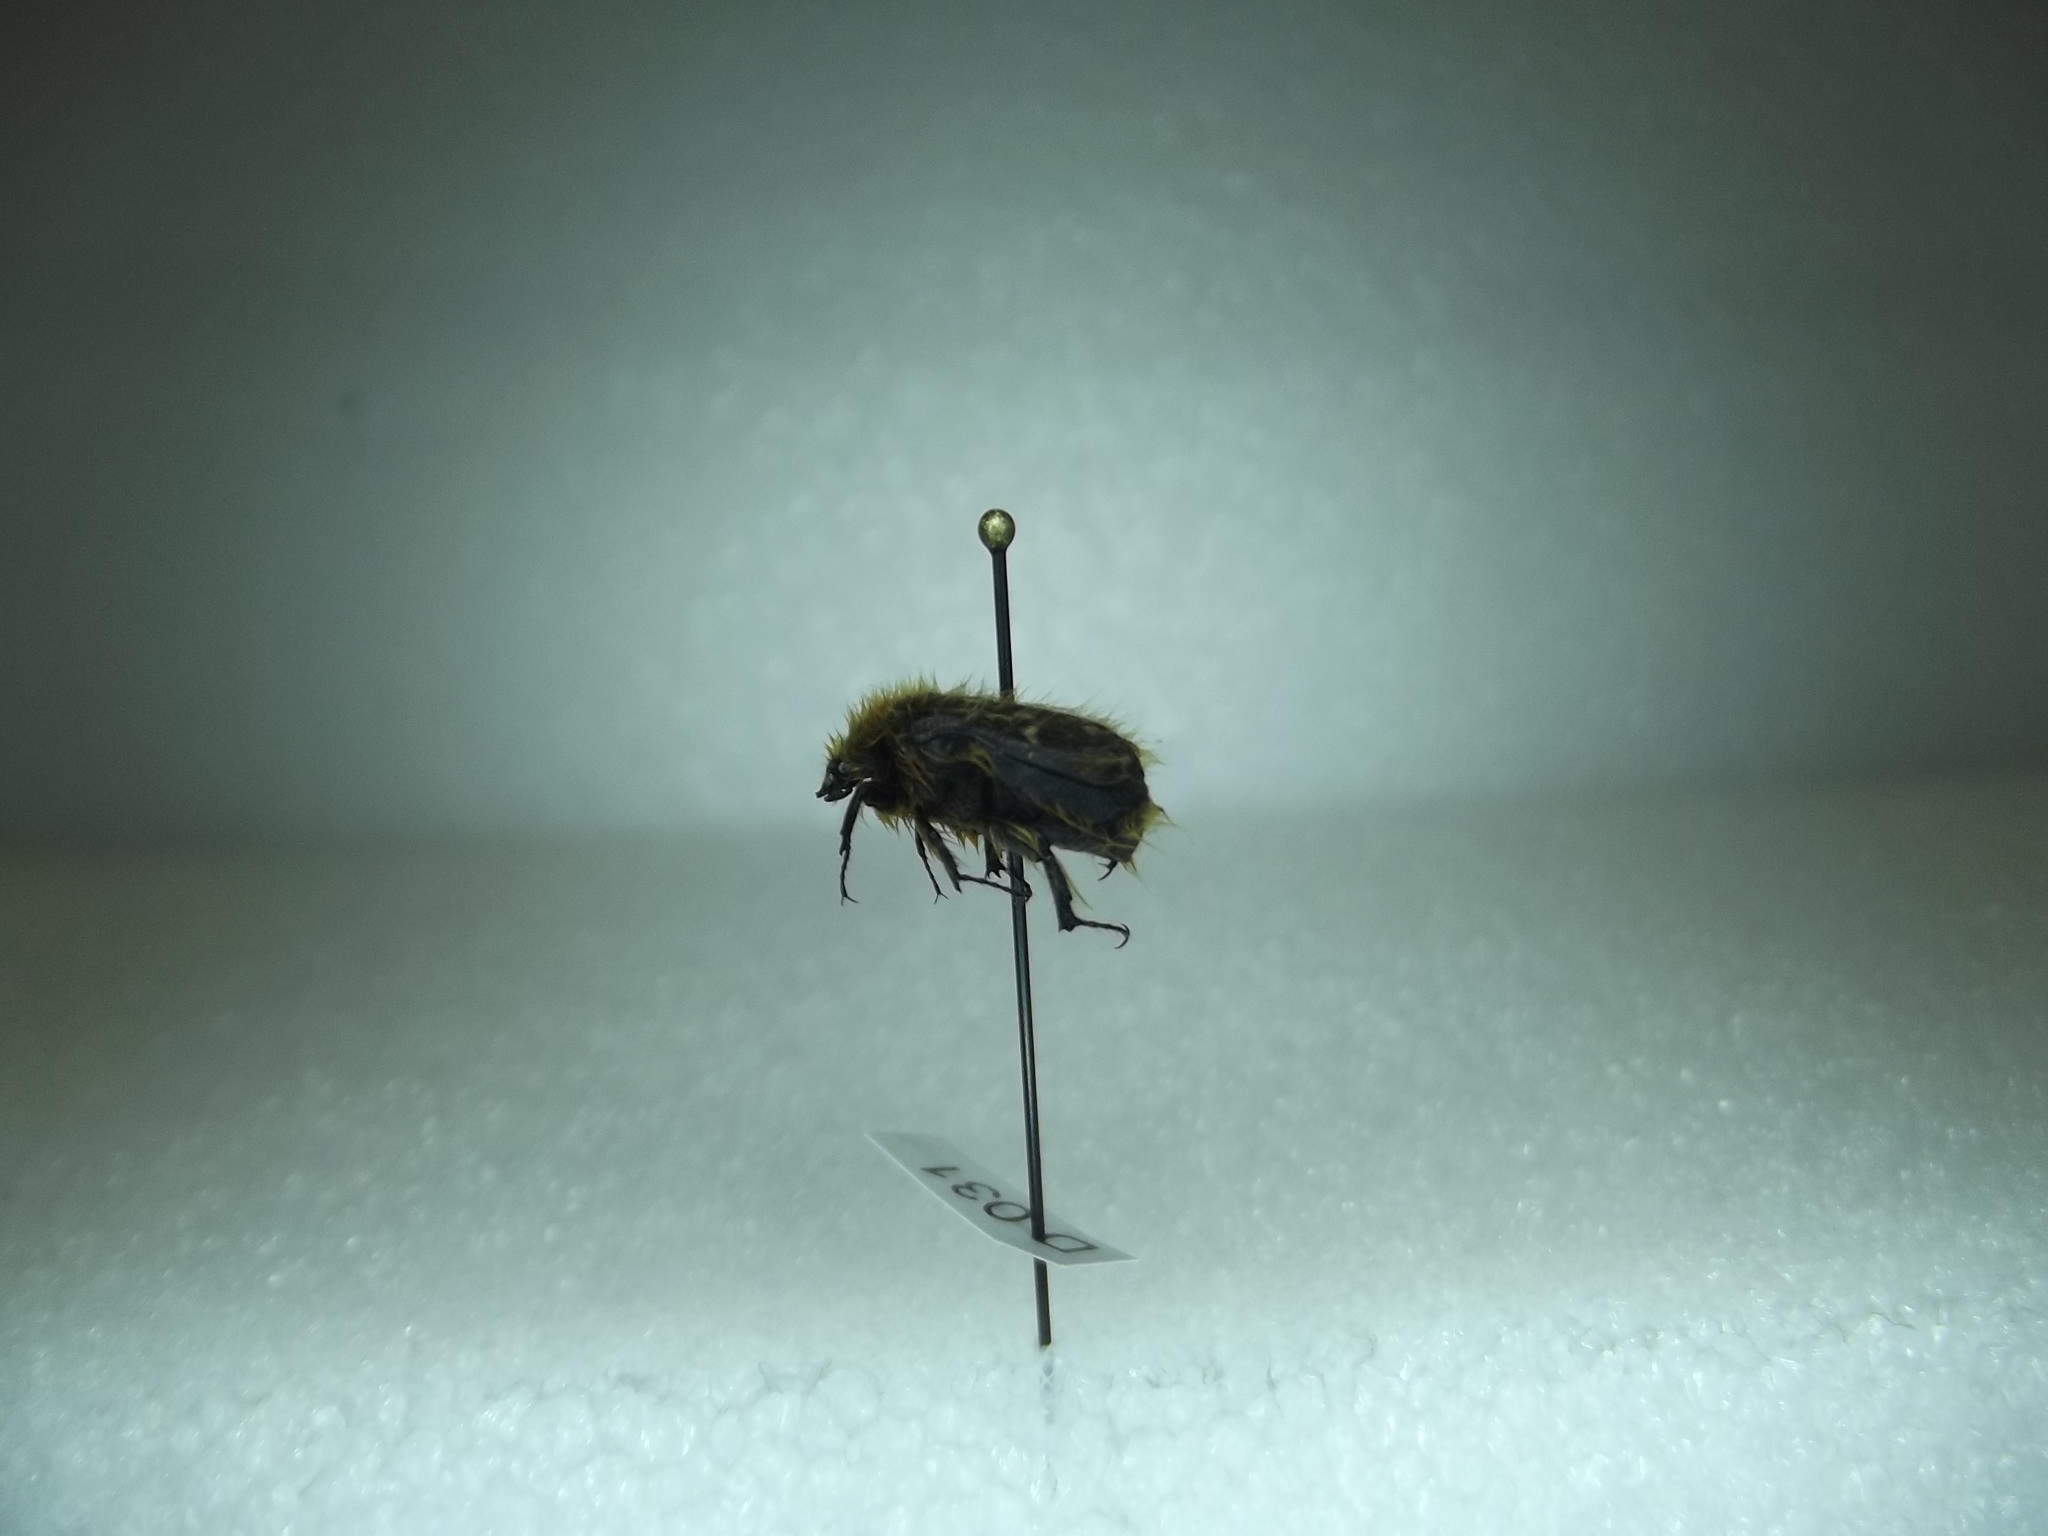Tropinota_hirta: (810, 666, 1209, 942)
